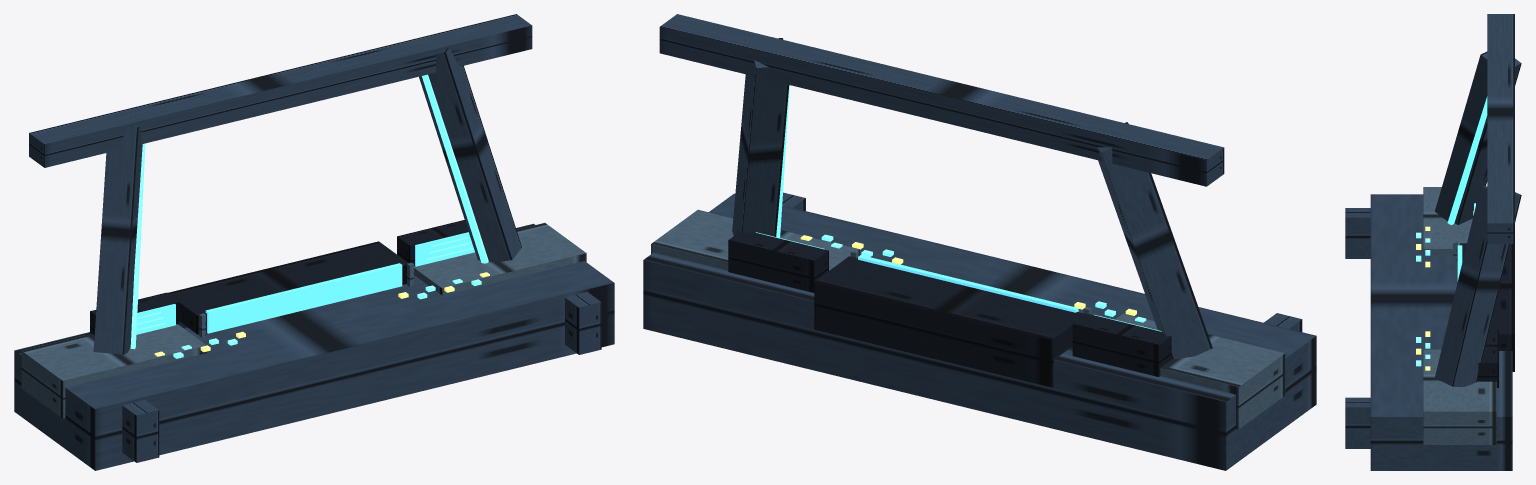
The model's file is computador-de-rota.glb.
The picture shows the model from 3 angles, left to right: view 1: azimuth 30°, elevation 25°; view 2: azimuth 150°, elevation 25°; view 3: azimuth 270°, elevation 25°; orthographic projection. The views are drawn at different scales.
Visible parts, largest first — view 1: Painel inferior, Travessa superior do para-brisa, Montante chanfrado do para-brisa.001, Montante chanfrado do para-brisa, Ombreira do painel, Chassi do computador de navegação, Ombreira do painel.001, Vidro do computador, Apoio lateral, Apoio lateral.001, Friso luminoso.001, Monitor de diagnóstico.001 (+4 smaller); view 2: Painel inferior, Travessa superior do para-brisa, Chassi do computador de navegação, Montante chanfrado do para-brisa, Montante chanfrado do para-brisa.001, Ombreira do painel, Monitor de diagnóstico, Monitor de diagnóstico.001, Ombreira do painel.001, Vidro do computador; view 3: Painel inferior, Montante chanfrado do para-brisa.001, Travessa superior do para-brisa, Ombreira do painel.001, Montante chanfrado do para-brisa, Ombreira do painel, Chassi do computador de navegação, Apoio lateral.001, Apoio lateral, Friso luminoso, Monitor de diagnóstico.001.
Part boxes in pixels (x1,y1,x2,y2): Painel inferior: (14, 223, 614, 470); Travessa superior do para-brisa: (29, 14, 532, 167); Montante chanfrado do para-brisa.001: (419, 48, 521, 262); Montante chanfrado do para-brisa: (93, 126, 142, 354); Ombreira do painel: (21, 324, 207, 418); Chassi do computador de navegação: (168, 241, 408, 334); Ombreira do painel.001: (414, 223, 586, 295); Vidro do computador: (205, 263, 402, 333); Apoio lateral: (122, 400, 159, 462); Apoio lateral.001: (565, 292, 601, 354); Friso luminoso.001: (422, 74, 488, 263); Monitor de diagnóstico.001: (397, 220, 468, 265); Painel inferior: (643, 193, 1316, 470); Travessa superior do para-brisa: (659, 14, 1224, 186); Chassi do computador de navegação: (814, 256, 1085, 387); Montante chanfrado do para-brisa: (1097, 122, 1212, 359); Montante chanfrado do para-brisa.001: (732, 38, 789, 236); Ombreira do painel: (1115, 313, 1285, 429); Monitor de diagnóstico: (1072, 313, 1173, 376); Monitor de diagnóstico.001: (728, 231, 828, 292); Ombreira do painel.001: (651, 209, 859, 270); Vidro do computador: (858, 255, 1078, 312); Painel inferior: (1370, 194, 1512, 470); Montante chanfrado do para-brisa.001: (1435, 186, 1521, 386); Travessa superior do para-brisa: (1487, 14, 1514, 243); Ombreira do painel.001: (1423, 349, 1496, 444); Montante chanfrado do para-brisa: (1435, 51, 1521, 224); Ombreira do painel: (1423, 187, 1472, 255); Chassi do computador de navegação: (1460, 243, 1514, 371); Apoio lateral.001: (1345, 397, 1370, 448); Apoio lateral: (1345, 208, 1370, 258); Friso luminoso: (1447, 96, 1487, 224); Monitor de diagnóstico.001: (1477, 330, 1498, 387).
Bounding box in the file's own units: 116 × 58 × 38.48.
Materials: 6 (3 with a texture image).
